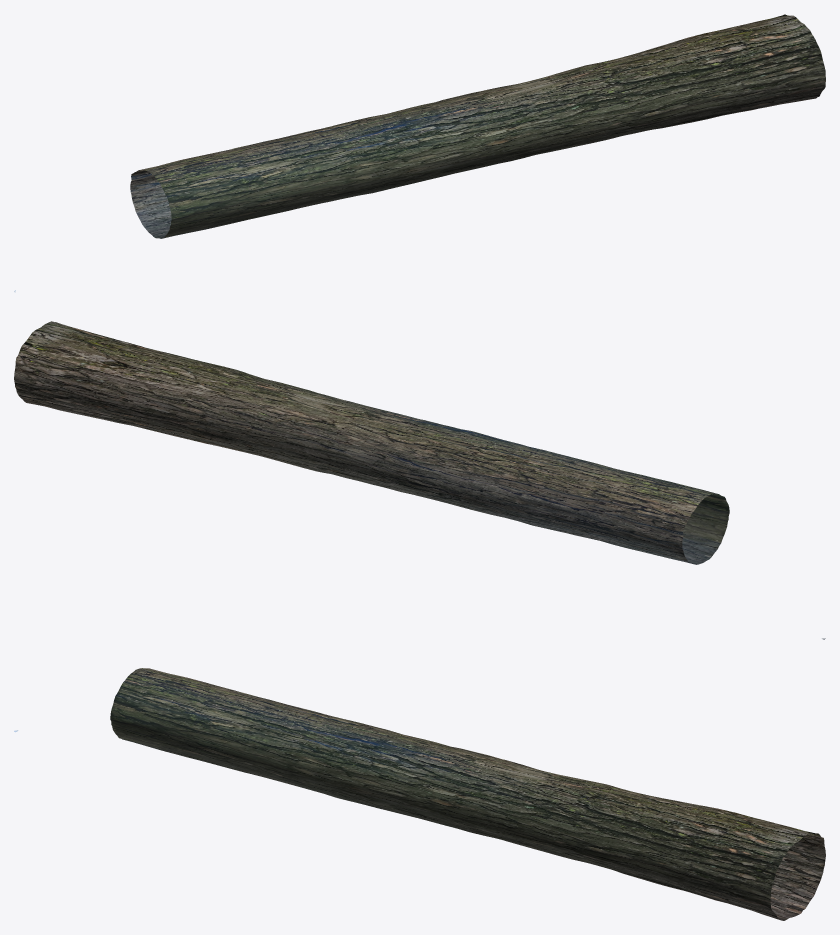
The model's file is TroncoObstaculo.fbx.
The picture shows the model from 3 angles, top to bottom: view 1: azimuth 30°, elevation 25°; view 2: azimuth 150°, elevation 25°; view 3: azimuth 330°, elevation 25°; orthographic projection. The views are drawn at different scales.
Visible parts, largest first — view 1: Retopo_3DModel_mesh; view 2: Retopo_3DModel_mesh; view 3: Retopo_3DModel_mesh.
Boxes of the visible parts, x1,y1,x2,y2 form: Retopo_3DModel_mesh: (14,14,825,292); Retopo_3DModel_mesh: (14,321,825,639); Retopo_3DModel_mesh: (14,668,825,920).
Bounding box in the file's own units: 13.38 × 1.63 × 1.66.
1 material, 1 textured.
